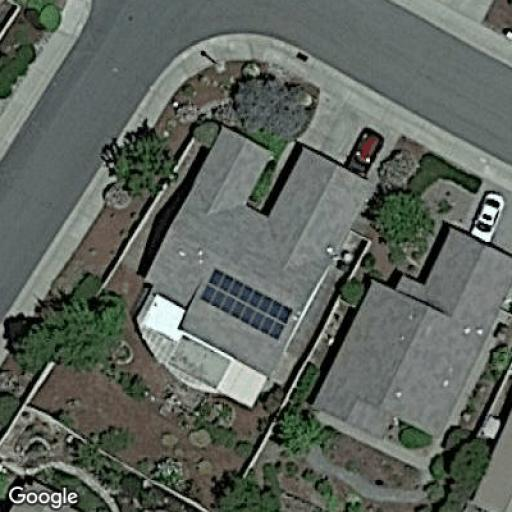solar-panel: (201, 266, 296, 342)
